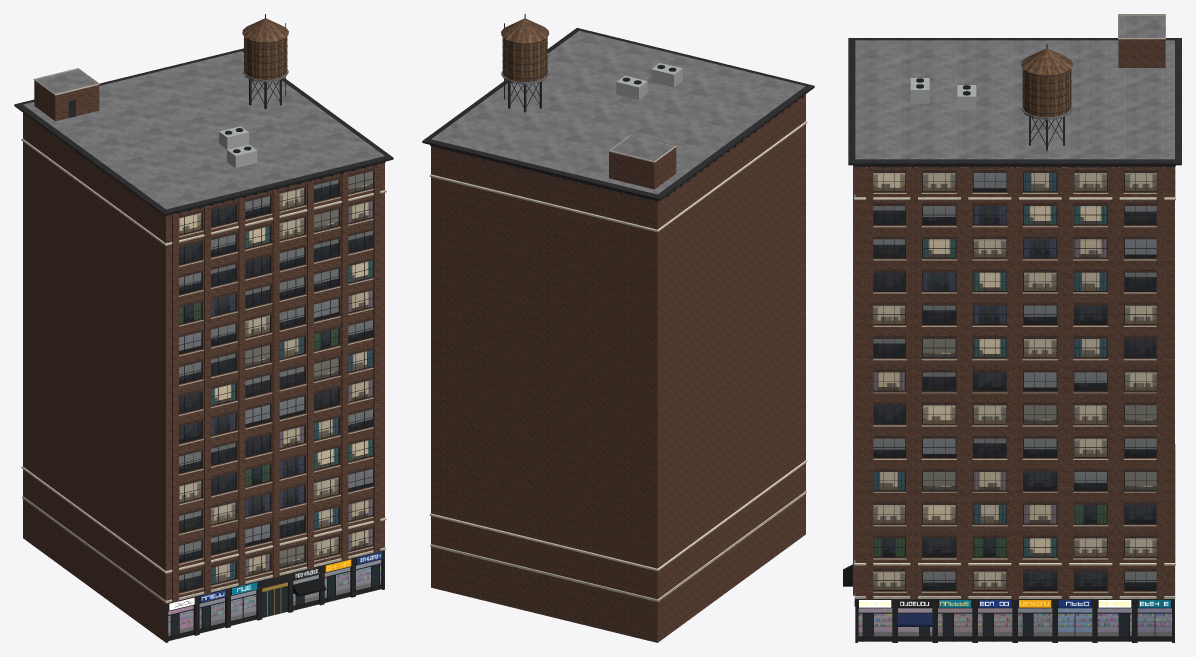
Rendered from hd07_chicago_school_loft.gltf.
3 renders of one model, left to right at view 1: azimuth 30°, elevation 25°; view 2: azimuth 150°, elevation 25°; view 3: azimuth 270°, elevation 25°, orthographic. The views are drawn at different scales.
Visible parts, largest first — view 1: hd07_chicago_school_loft_LOD0; view 2: hd07_chicago_school_loft_LOD0; view 3: hd07_chicago_school_loft_LOD0.
Part boxes in pixels (x1=…): hd07_chicago_school_loft_LOD0: x1=14, y1=14, x2=393, y2=642; hd07_chicago_school_loft_LOD0: x1=422, y1=14, x2=814, y2=642; hd07_chicago_school_loft_LOD0: x1=843, y1=14, x2=1181, y2=642.
Size of what is drawn, in the model's own units: 32.05 by 68.15 by 36.05.
18 materials, 9 textured.
